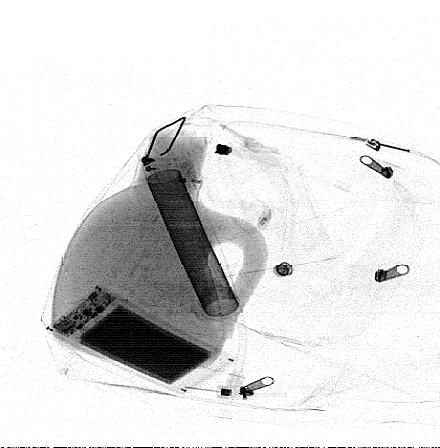Powerbank: (42, 283, 238, 397)
